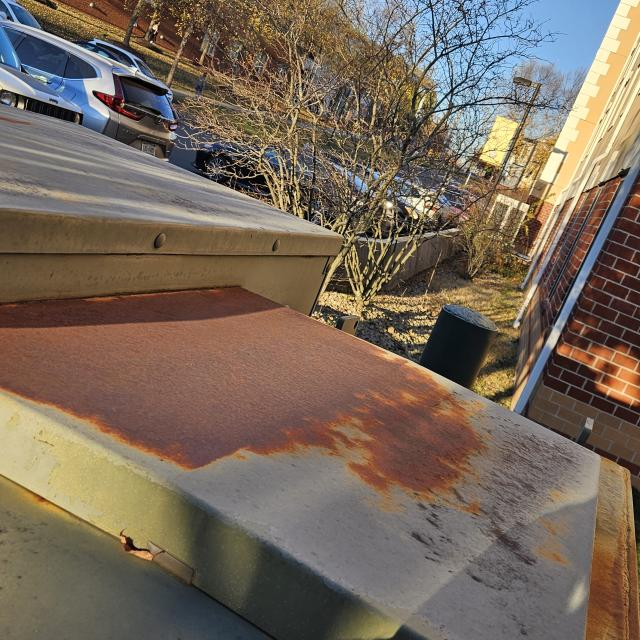Filiform Corrosion: (1, 284, 488, 514), (541, 485, 573, 546), (540, 544, 576, 567), (4, 117, 37, 129)
